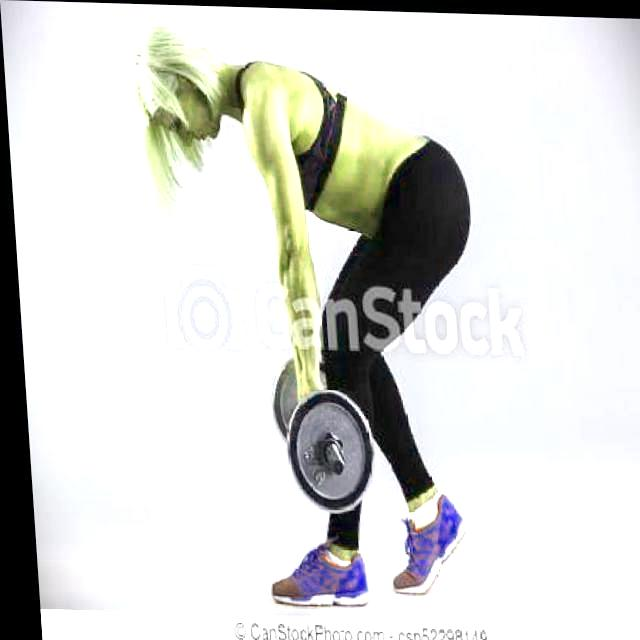barbell: (277, 385, 375, 515)
